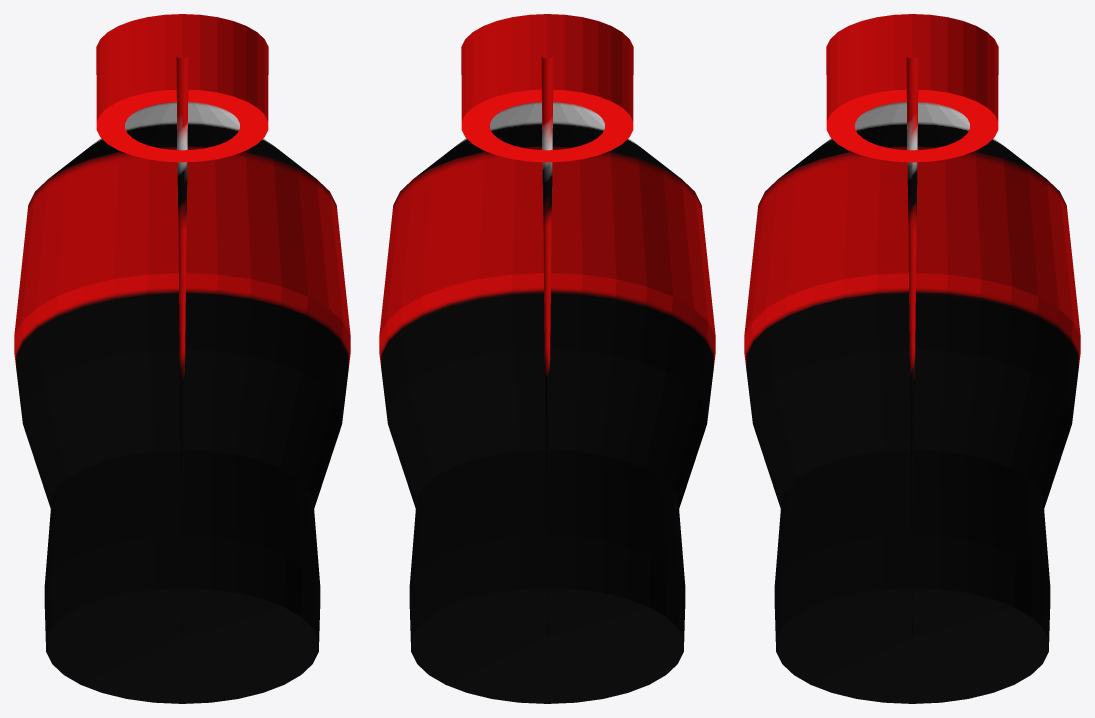
3 views of the same model, side by side, from view 1: azimuth 30°, elevation 25°; view 2: azimuth 150°, elevation 25°; view 3: azimuth 270°, elevation 25° (orthographic).
Visible parts, largest first — view 1: algeomath (13); view 2: algeomath (13); view 3: algeomath (13).
Part boxes in pixels (box(x1,y1,x2,y2)): algeomath (13): box(14, 14, 350, 703); algeomath (13): box(379, 14, 715, 703); algeomath (13): box(744, 14, 1080, 703).
Size of the model in its own units: 0.1545 by 0.3 by 0.1537.
Materials: 1 (1 with a texture image).
